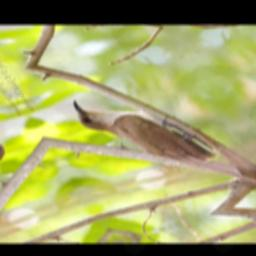Cuckoo: (65, 72, 219, 186)
